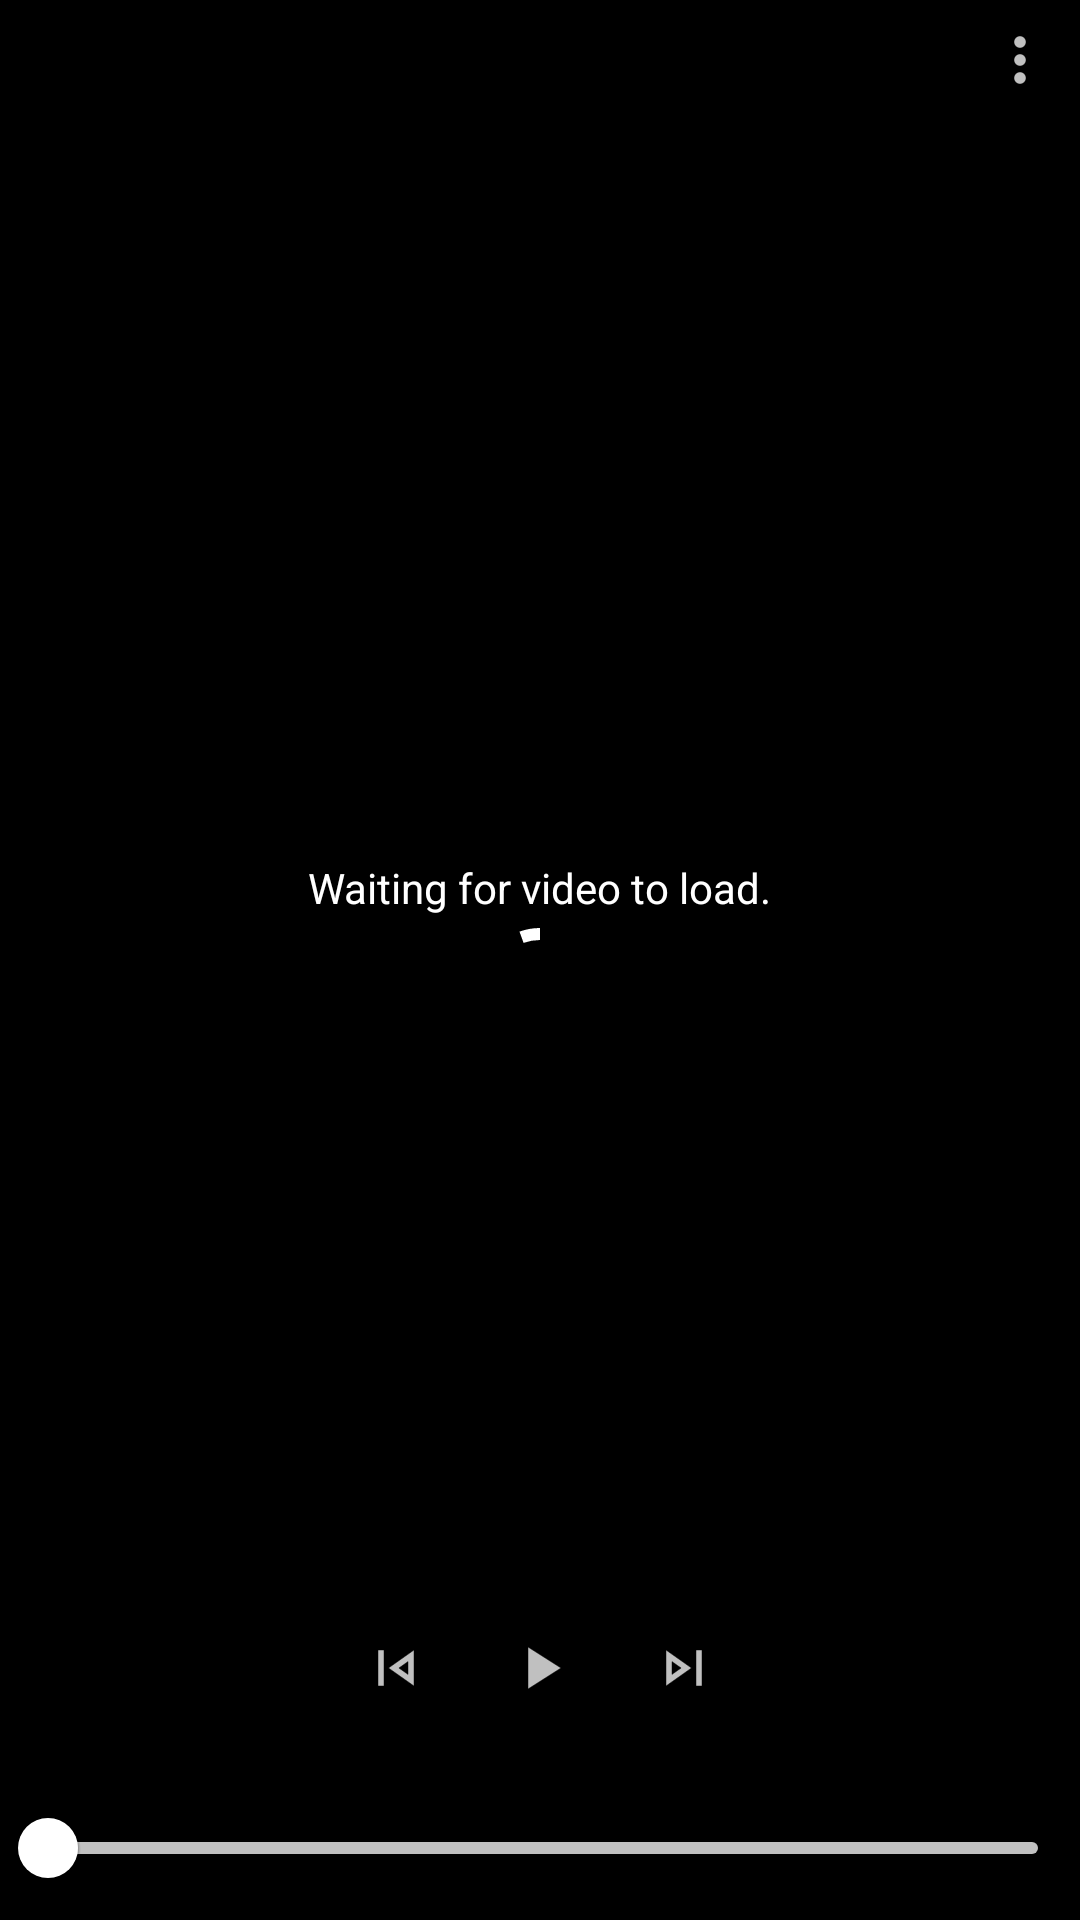

Icons on this 1080 × 1920 Android screen, each with its box as (x1, y1, x2, y2):
more vert: (1014, 36, 1026, 84)
play arrow: (528, 1647, 561, 1689)
skip next: (666, 1650, 702, 1686)
skip previous: (378, 1650, 414, 1686)
